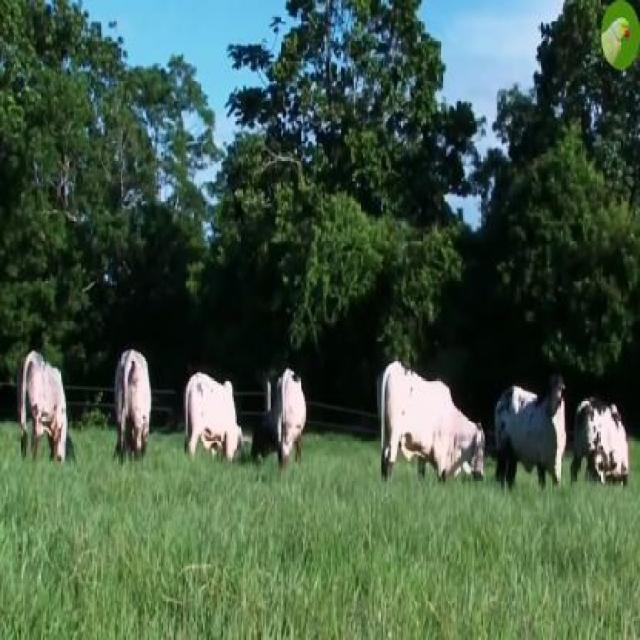Cow: (379, 360, 483, 488), (494, 380, 568, 488), (18, 349, 71, 465), (186, 372, 242, 465)
